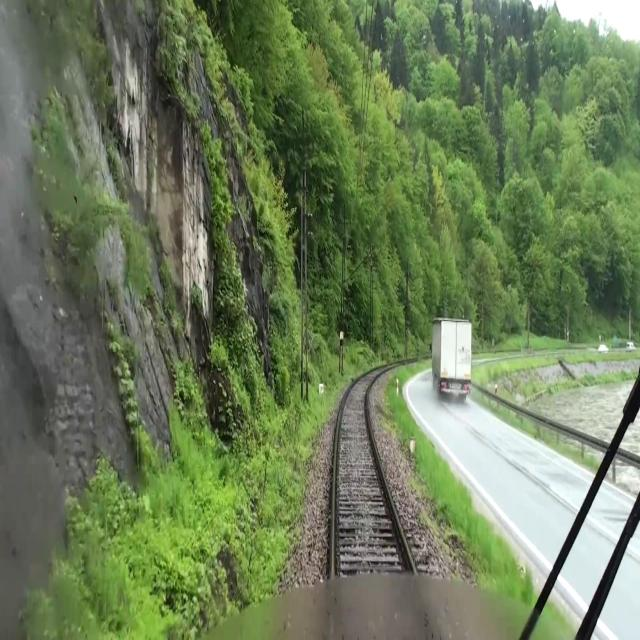rail-track: (336, 374, 434, 639)
